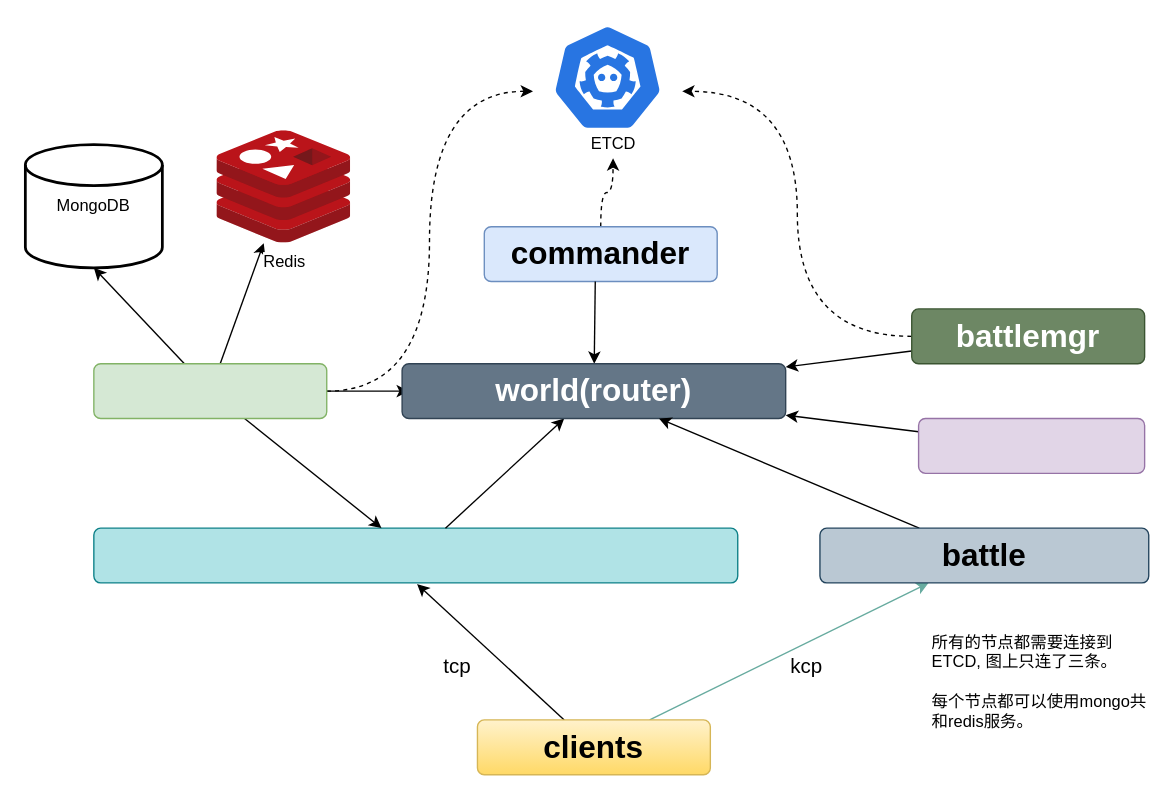
This 1173x799 diagram has some shape labels left out. The shapes that lost their labels are listed below. From the top down, each one's centre as x and y in pixels, then its label:
(x=209, y=390): game
(x=1031, y=445): centerstub
(x=415, y=555): gate
